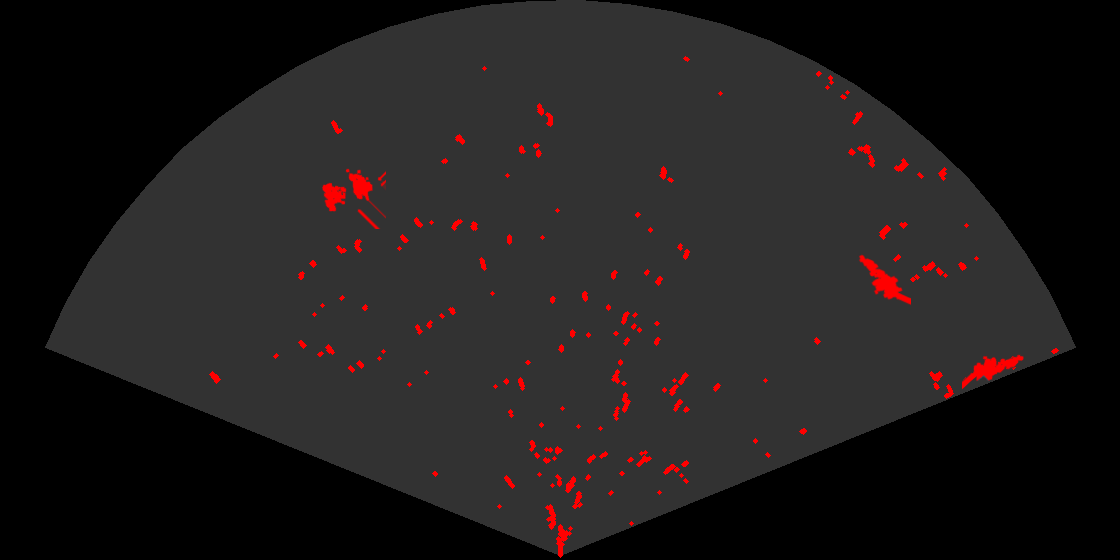cage: (320, 167, 386, 229)
frogman: (857, 253, 911, 307), (962, 353, 1025, 391)
